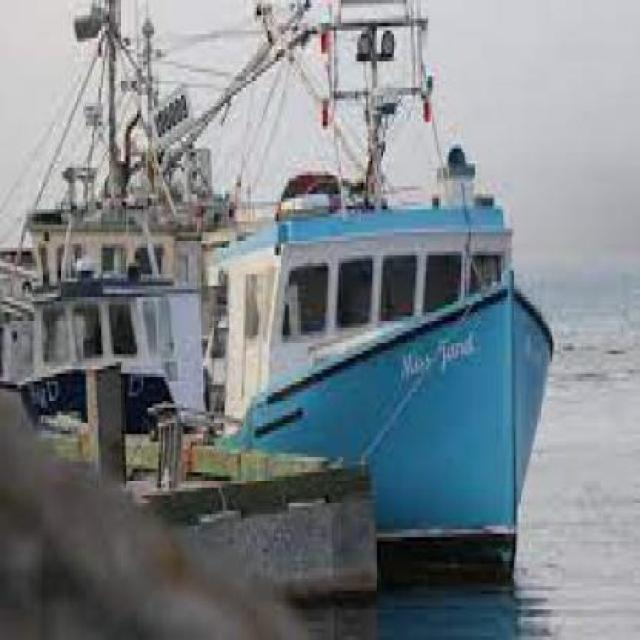fish-b: (192, 1, 576, 581)
